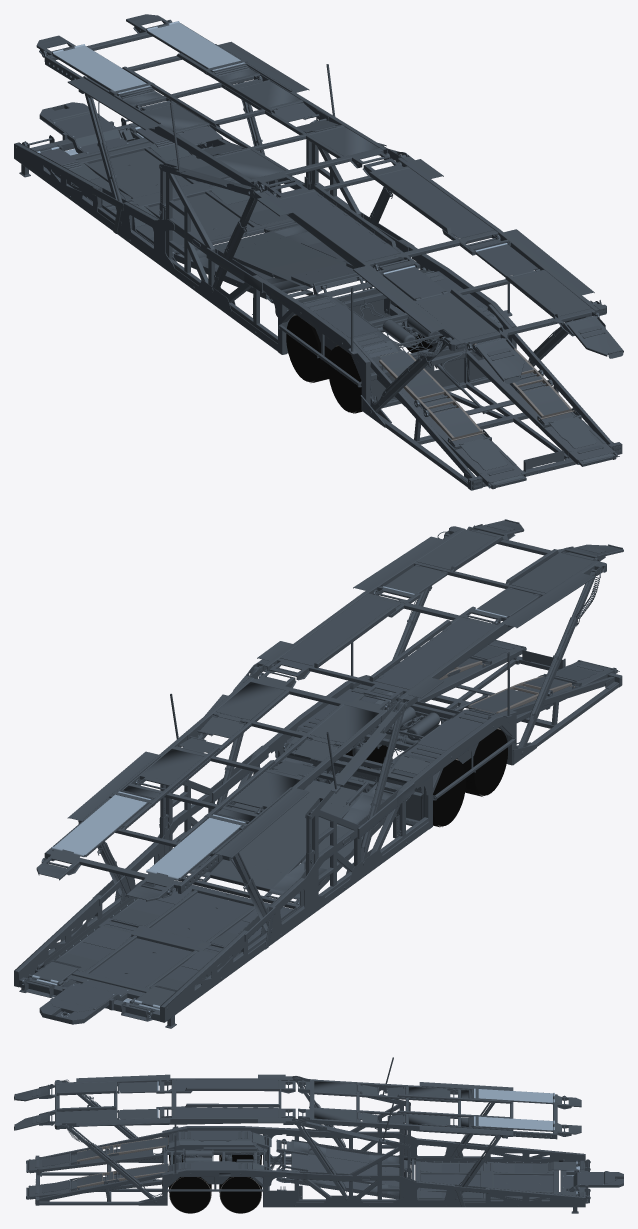
File: p389_cottrell_cx09__trailer_v0.1.glb
3 renders of one model, top to bottom at view 1: azimuth 30°, elevation 25°; view 2: azimuth 150°, elevation 25°; view 3: azimuth 270°, elevation 25°, orthographic. The views are drawn at different scales.
Visible parts, largest first — view 1: piece_11.003, piece_83.001, piece_2.003, piece_116, piece_4.003, piece_18.001, piece_70.001, piece_72.001, piece_49.001, piece_0.009_wheel_r_0_0 (×2), piece_48.001, piece_106 (+20 smaller); view 2: piece_11.003, piece_2.003, piece_83.001, piece_70.001, piece_4.003, piece_18.001, piece_116, piece_49.001, piece_72.001, piece_0.009_wheel_r_0_0 (×2), piece_127, piece_8.003 (+18 smaller); view 3: piece_2.003, piece_11.003, piece_83.001, piece_116, piece_4.003, piece_18.001, piece_70.001, piece_0.009_wheel_r_1_0 (×2), piece_49.001, piece_119, piece_72.001, piece_48.001 (+25 smaller).
Part boxes in pixels (bbox=[...]): piece_11.003: bbox=[37, 14, 623, 383]; piece_83.001: bbox=[36, 21, 614, 487]; piece_2.003: bbox=[14, 138, 414, 351]; piece_116: bbox=[253, 239, 622, 490]; piece_4.003: bbox=[251, 154, 606, 351]; piece_18.001: bbox=[81, 45, 400, 190]; piece_70.001: bbox=[51, 142, 293, 249]; piece_72.001: bbox=[213, 232, 354, 286]; piece_49.001: bbox=[70, 144, 289, 244]; piece_0.009_wheel_r_0_0 (×2): bbox=[286, 315, 361, 412]; piece_48.001: bbox=[379, 337, 569, 437]; piece_106: bbox=[287, 292, 508, 402]; piece_11.003: bbox=[37, 520, 622, 899]; piece_2.003: bbox=[14, 530, 599, 1022]; piece_83.001: bbox=[32, 566, 610, 1008]; piece_70.001: bbox=[38, 880, 298, 992]; piece_4.003: bbox=[255, 526, 606, 709]; piece_18.001: bbox=[81, 667, 398, 863]; piece_116: bbox=[253, 656, 622, 829]; piece_49.001: bbox=[56, 885, 288, 990]; piece_72.001: bbox=[213, 781, 368, 886]; piece_0.009_wheel_r_0_0 (×2): bbox=[433, 729, 507, 826]; piece_127: bbox=[36, 755, 292, 901]; piece_8.003: bbox=[170, 664, 407, 819]; piece_2.003: bbox=[268, 1104, 585, 1207]; piece_11.003: bbox=[14, 1074, 581, 1135]; piece_83.001: bbox=[26, 1081, 577, 1198]; piece_116: bbox=[35, 1126, 298, 1207]; piece_4.003: bbox=[55, 1074, 298, 1129]; piece_18.001: bbox=[294, 1078, 513, 1136]; piece_70.001: bbox=[415, 1158, 564, 1199]; piece_0.009_wheel_r_1_0 (×2): bbox=[170, 1177, 260, 1213]; piece_49.001: bbox=[420, 1161, 553, 1198]; piece_119: bbox=[167, 1130, 263, 1182]; piece_72.001: bbox=[284, 1151, 399, 1185]; piece_48.001: bbox=[77, 1137, 168, 1186].
Bounding box in the file's own units: 2.74 × 2.99 × 14.69.
